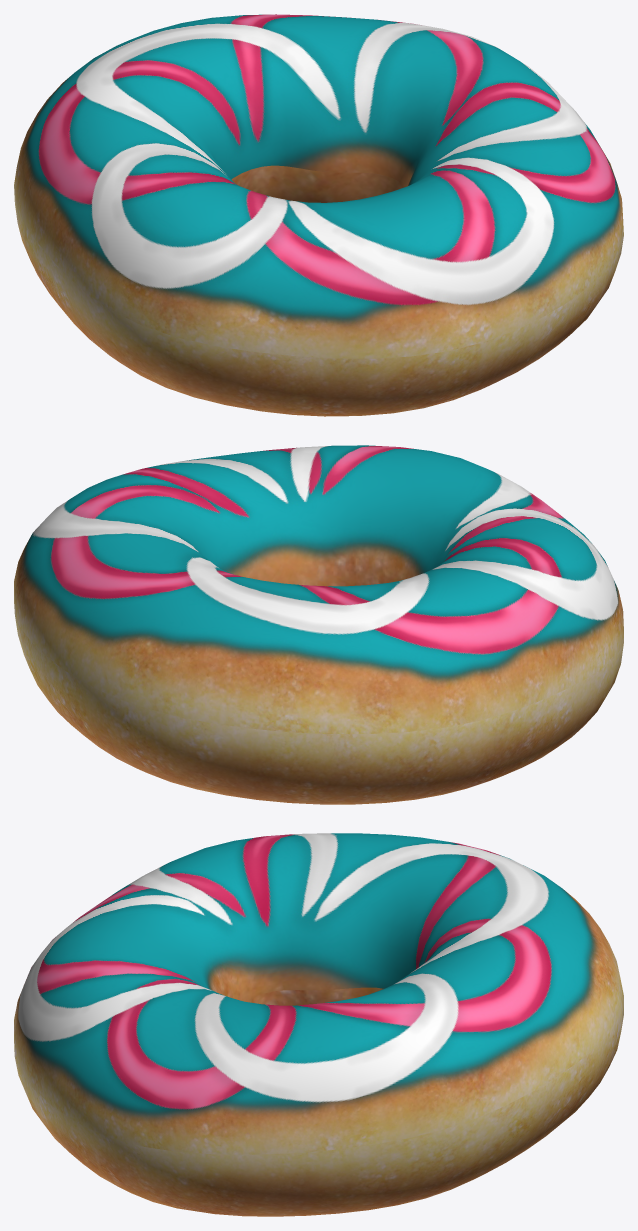
File: Donut7.obj
3 views of the same model, one above another, from view 1: azimuth 30°, elevation 25°; view 2: azimuth 150°, elevation 25°; view 3: azimuth 270°, elevation 25° (orthographic).
Parts seen in each view (by area): view 1: donut076; view 2: donut076; view 3: donut076.
Part boxes in pixels (box(x1,y1,x2,y2)): donut076: box(14, 14, 623, 416); donut076: box(14, 445, 623, 804); donut076: box(14, 833, 623, 1216).
Bounding box in the file's own units: 9.35 × 3.88 × 9.66.
Materials: 1 (1 with a texture image).
